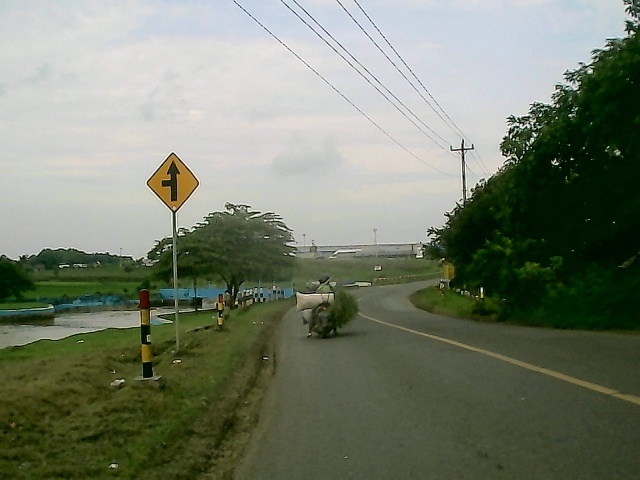Simpang kiri dengan prioritas: (143, 151, 201, 214)
